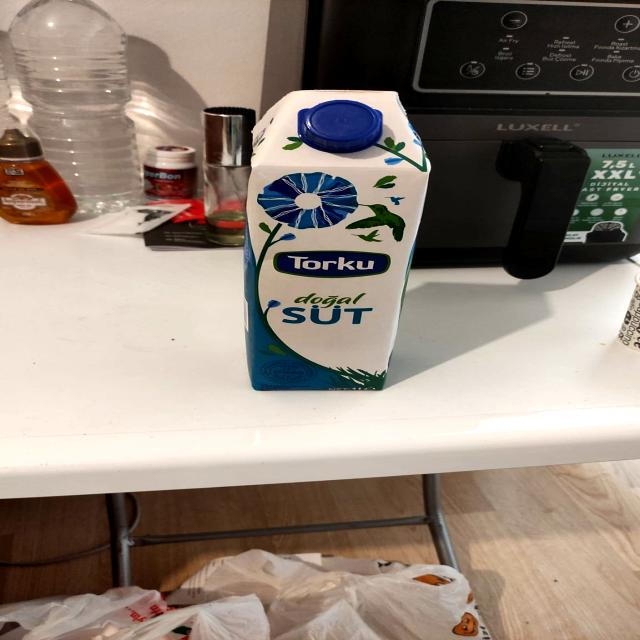milk: (235, 86, 442, 394)
